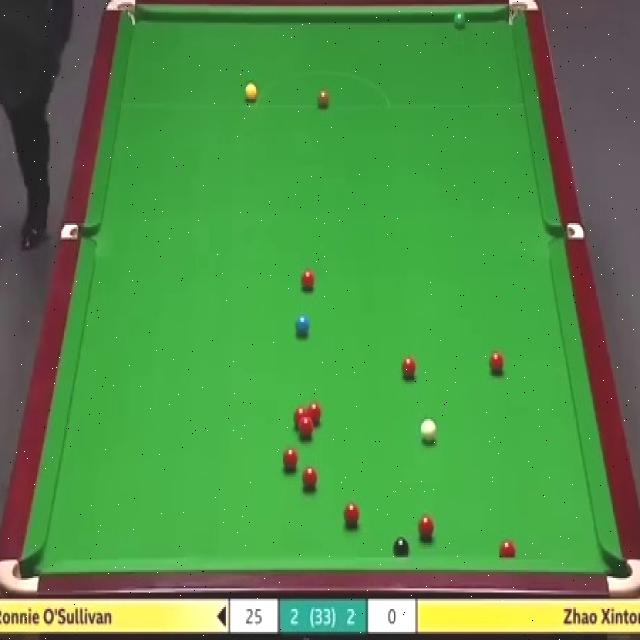black-ball: (393, 536, 410, 558)
blue-ball: (294, 314, 311, 336)
brown-ball: (317, 86, 329, 108)
green-ball: (453, 7, 468, 27)
red-ball: (302, 462, 320, 491), (344, 500, 361, 530), (400, 353, 418, 381), (417, 516, 435, 543), (282, 443, 298, 471), (488, 351, 504, 376), (300, 269, 315, 295), (293, 407, 308, 432), (308, 402, 322, 427), (498, 538, 516, 556), (299, 420, 315, 440)
white-ball: (419, 420, 438, 446)
yellow-ball: (244, 85, 256, 102)
